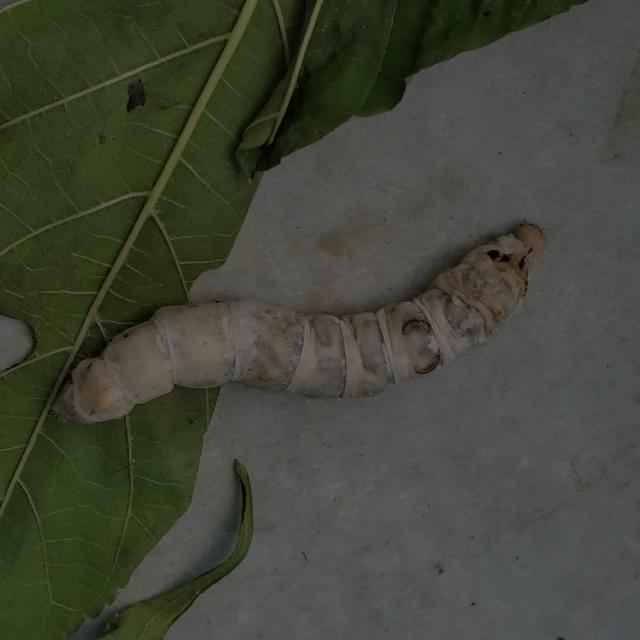Grasserie: (48, 209, 556, 429)
